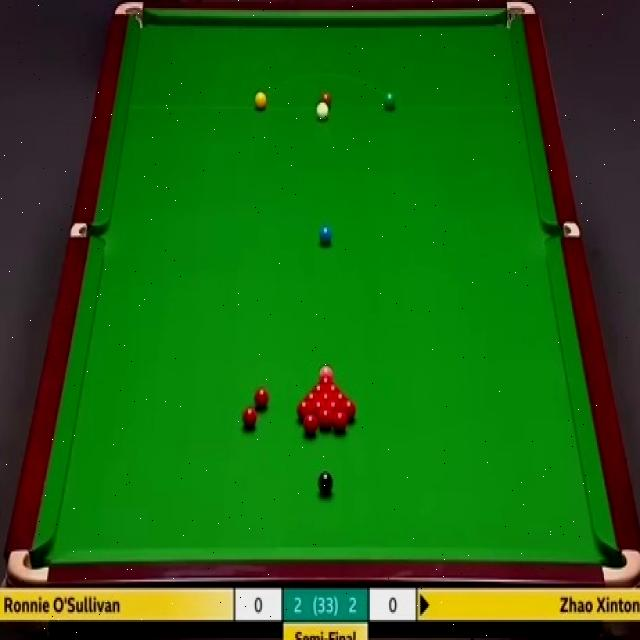black-ball: (316, 470, 332, 494)
blue-ball: (318, 226, 332, 244)
brown-ball: (321, 92, 332, 110)
green-ball: (382, 89, 398, 111)
pink-ball: (319, 366, 334, 380)
red-ball: (300, 412, 318, 436), (253, 386, 269, 408), (242, 406, 257, 429), (339, 399, 355, 420), (318, 408, 333, 430), (333, 412, 347, 433), (297, 400, 310, 421), (327, 401, 340, 421), (306, 391, 317, 404), (320, 392, 331, 405), (320, 378, 330, 390)
white-ball: (315, 102, 329, 120)
yellow-ball: (254, 91, 267, 111)
